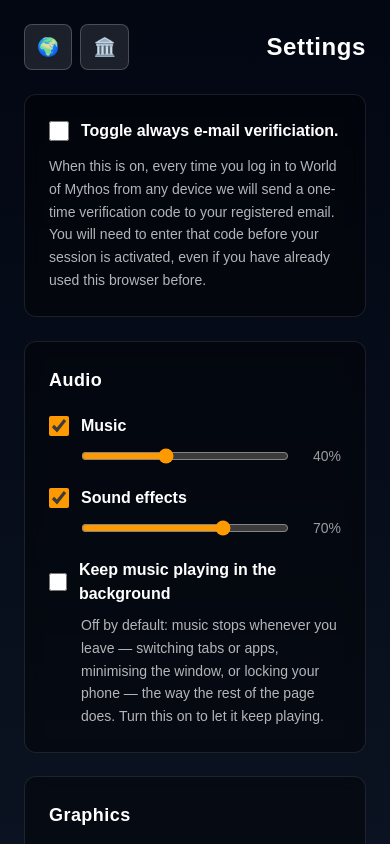
it: SettingsPage › toggling on sends a confirmation email and shows the awaiting-confirmation message
Click the checkbox labelled "Toggle always e-mail verificiation." at coordinates (59, 131), box [49,121,69,141]
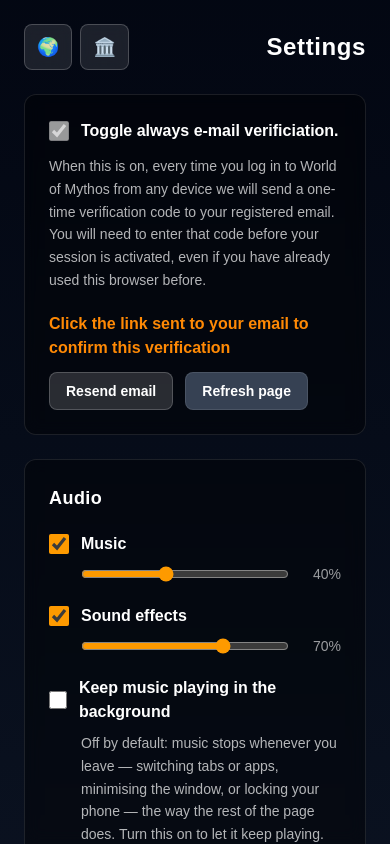
Check: the checkbox labelled "Toggle always e-mail verificiation." is checked, box [49,121,69,141]
Check: the text "Click the link sent to your email to confirm this verification" is shown, box [49,312,341,360]
Check: the checkbox labelled "Toggle always e-mail verificiation." is disabled, box [49,121,69,141]
